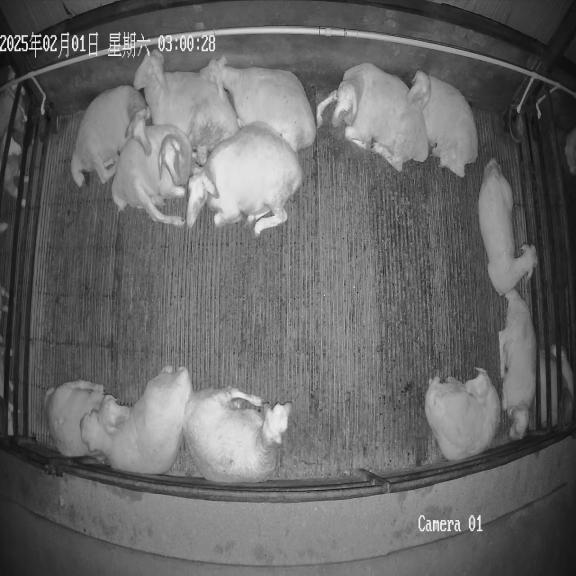lying: (186, 124, 302, 236), (133, 50, 240, 165), (316, 63, 429, 171), (80, 366, 192, 474), (199, 56, 316, 151), (183, 387, 292, 483), (112, 125, 194, 226), (71, 85, 151, 187), (478, 159, 537, 295), (409, 70, 477, 177), (425, 368, 501, 460), (45, 380, 130, 457), (499, 289, 536, 440)
